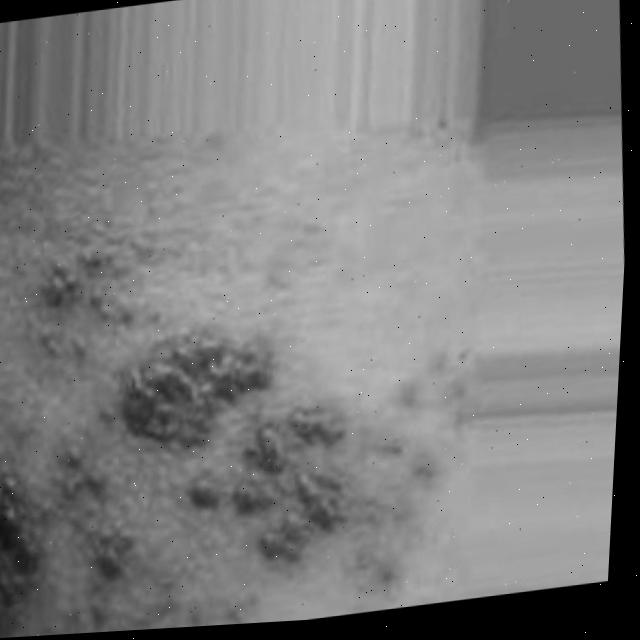Shingles: (0, 201, 438, 640)
